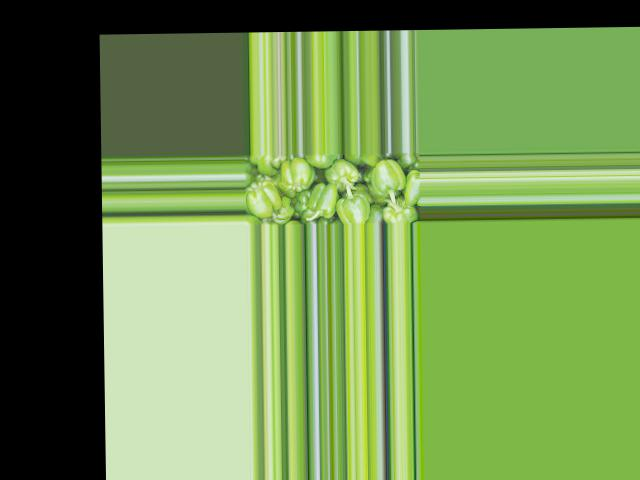bell_pepper: (244, 152, 418, 223)
